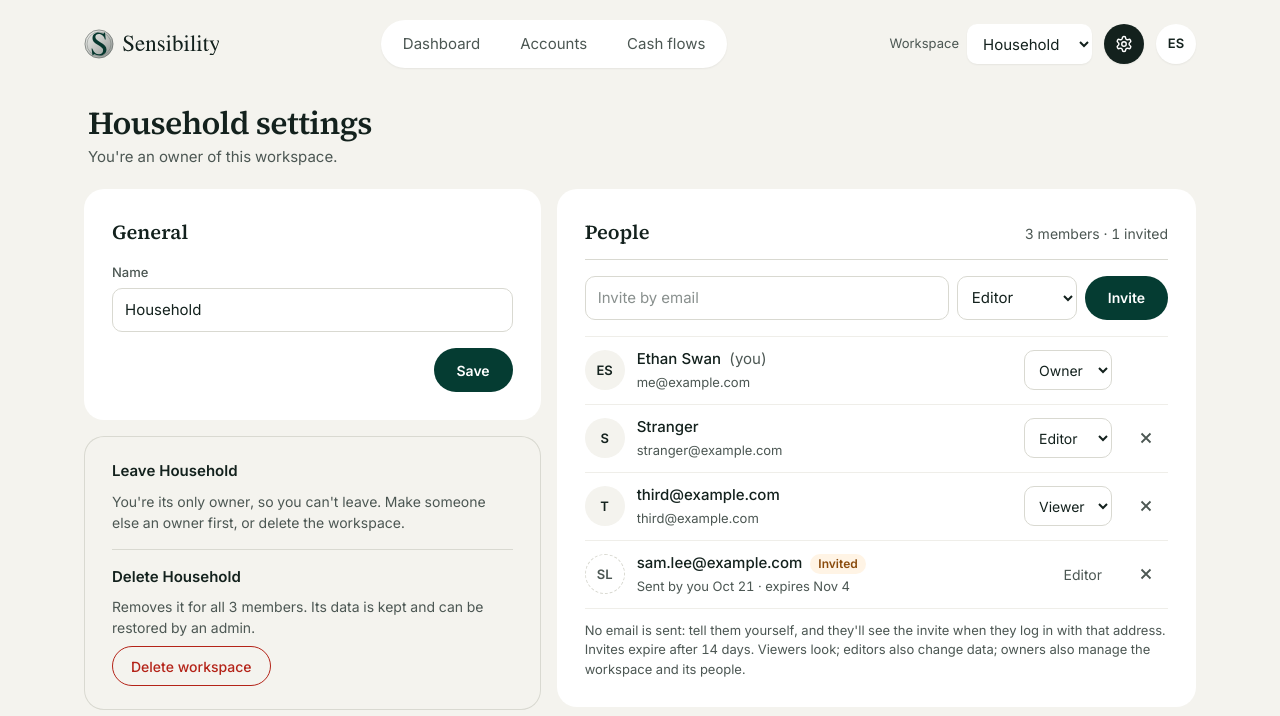
Test: settings, as the owner › puts a refused role back, with the message under People
Select "Editor" in the dropdown named "Role for Ethan Swan" at (1068,370), box [1024,350,1112,390]
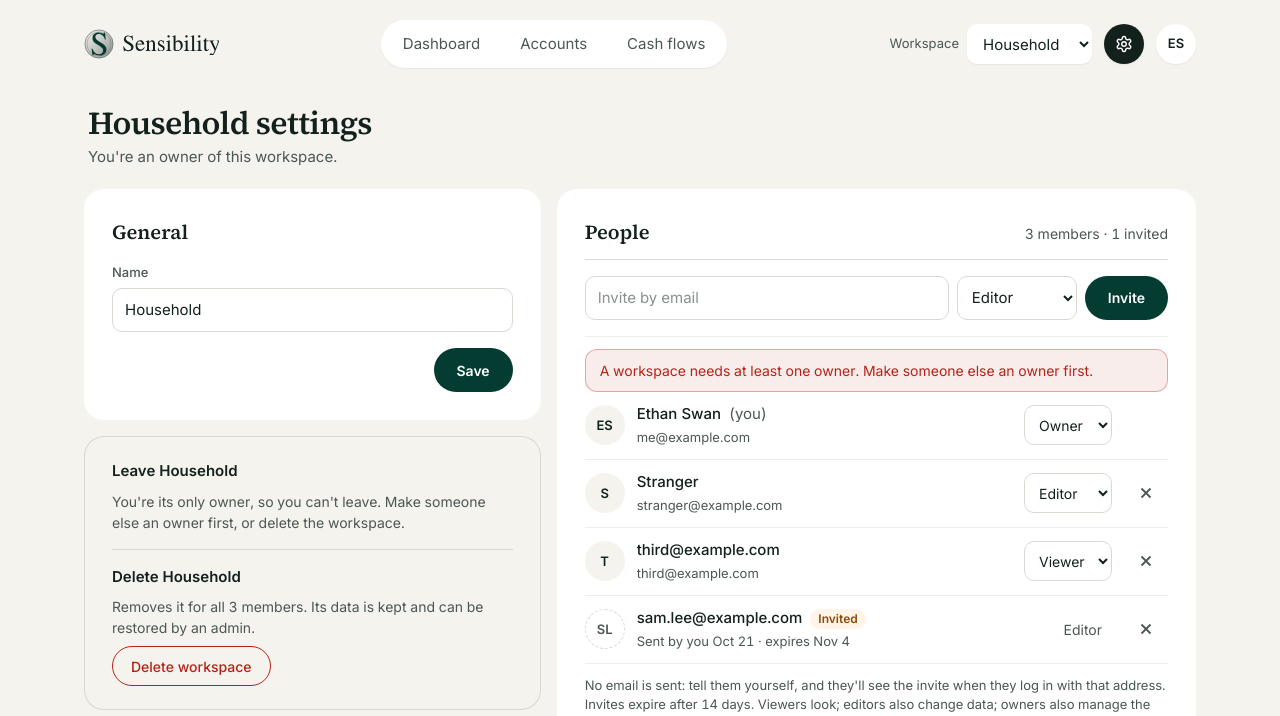
Result: the message shows "A workspace needs at least one owner." at [600,362,1093,379]
